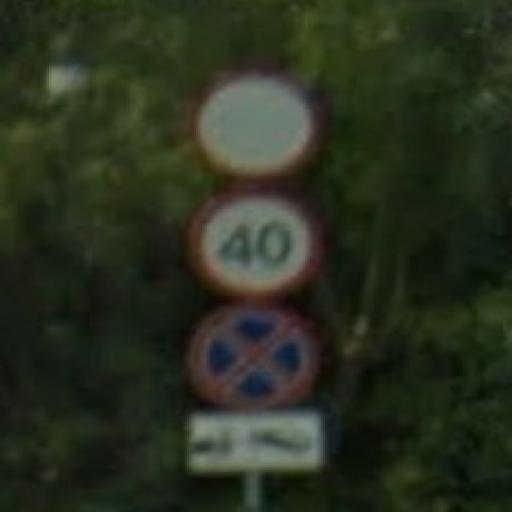traffic_sign: (190, 189, 326, 309), (188, 71, 322, 186), (190, 308, 322, 414)
